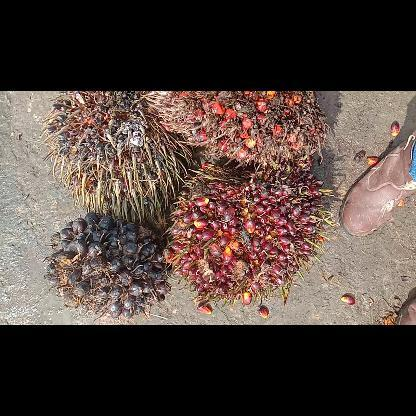TBS abnormal: (46, 90, 193, 218)
TBS masak: (163, 162, 325, 300)
TBS mentah: (43, 210, 165, 314)
Terlalu masak: (146, 91, 324, 171)
